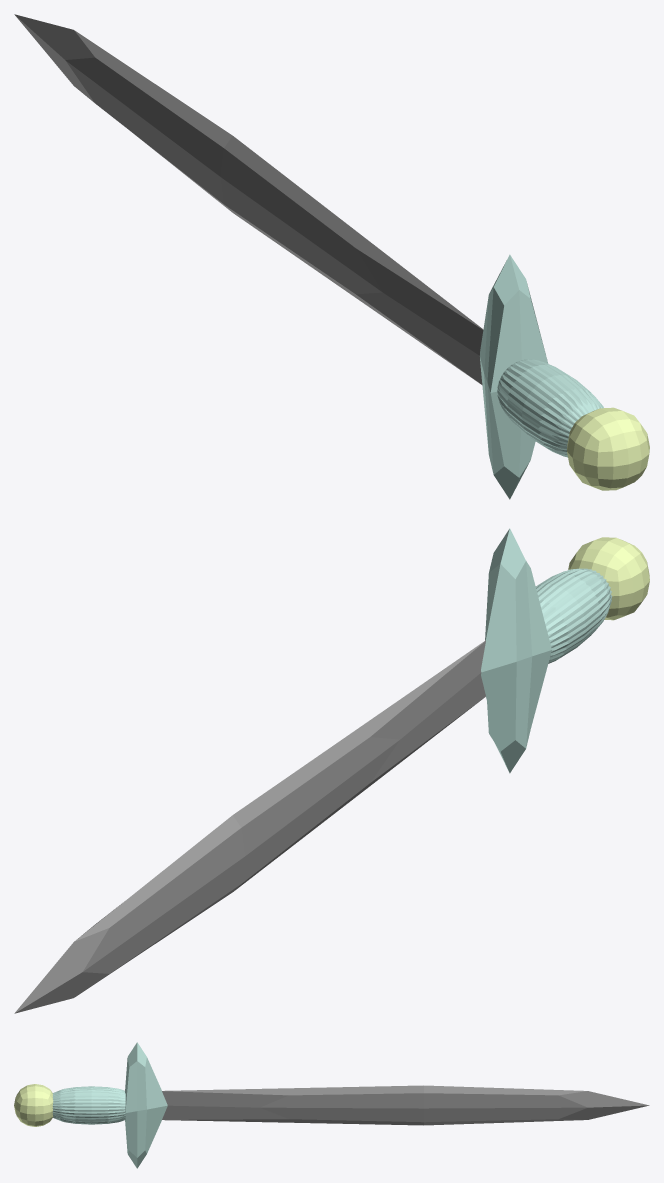
The model's file is Epée.fbx.
The picture shows the model from 3 angles, top to bottom: view 1: azimuth 30°, elevation 25°; view 2: azimuth 150°, elevation 25°; view 3: azimuth 270°, elevation 25°; orthographic projection. The views are drawn at different scales.
Visible parts, largest first — view 1: Cube.002, Cube.001, Cylindre, Cube; view 2: Cube.002, Cube.001, Cylindre, Cube; view 3: Cube.002, Cube.001, Cylindre, Cube.
Part boxes in pixels (x1,y1,x2,y2): Cube.002: [14, 14, 483, 384]; Cube.001: [480, 254, 548, 499]; Cylindre: [497, 359, 603, 457]; Cube: [567, 407, 649, 490]; Cube.002: [14, 640, 485, 1013]; Cube.001: [481, 528, 551, 773]; Cylindre: [535, 568, 612, 663]; Cube: [568, 537, 649, 620]; Cube.002: [162, 1085, 649, 1125]; Cube.001: [125, 1042, 167, 1168]; Cylindre: [52, 1086, 125, 1124]; Cube: [14, 1084, 53, 1126].
Size of the model in its own units: 46.88 by 154 by 697.
